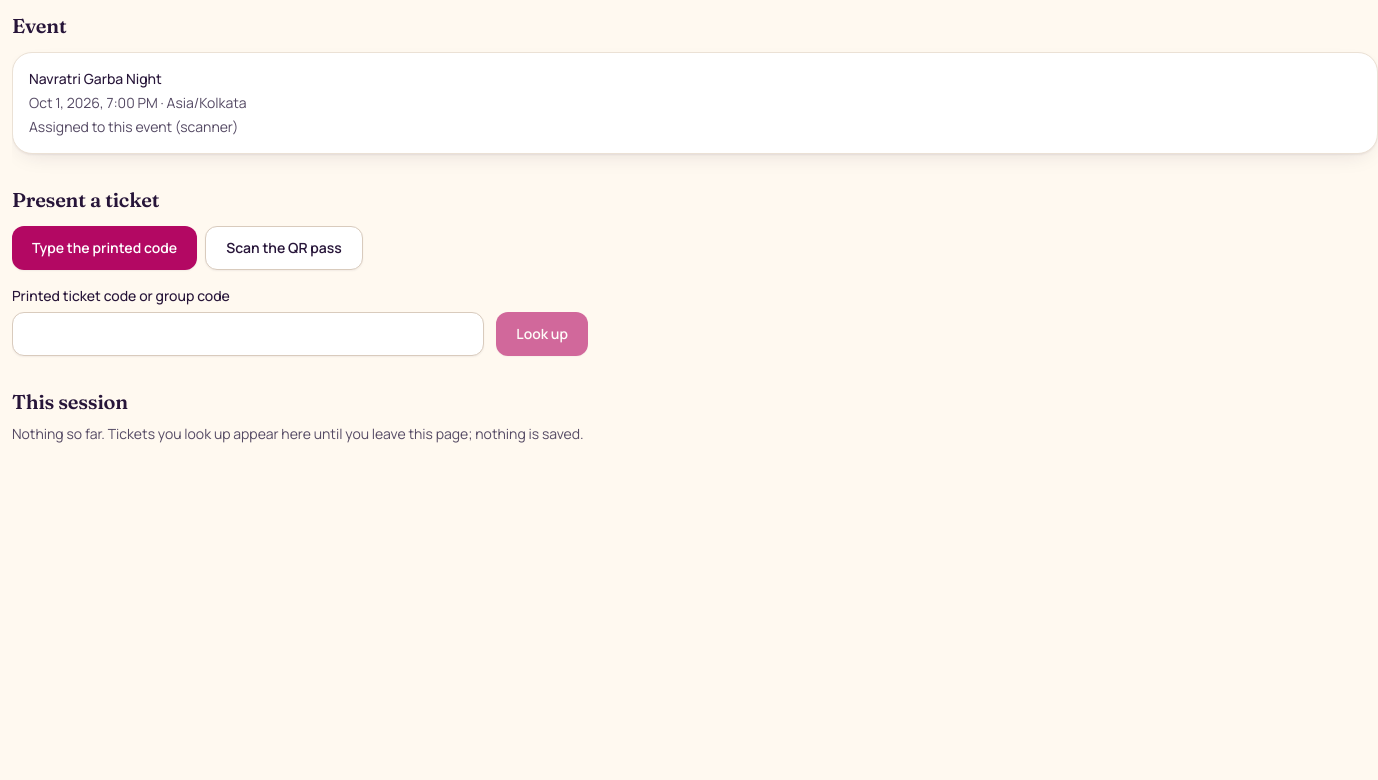
Test: DoorWorkspace: looking up, then admitting › looks a ticket up without admitting it, and names who it is
Step 1. Type "det-abc123xyz" into the field labelled "Printed ticket code or group code" → (248, 334), box [12,312,484,356]
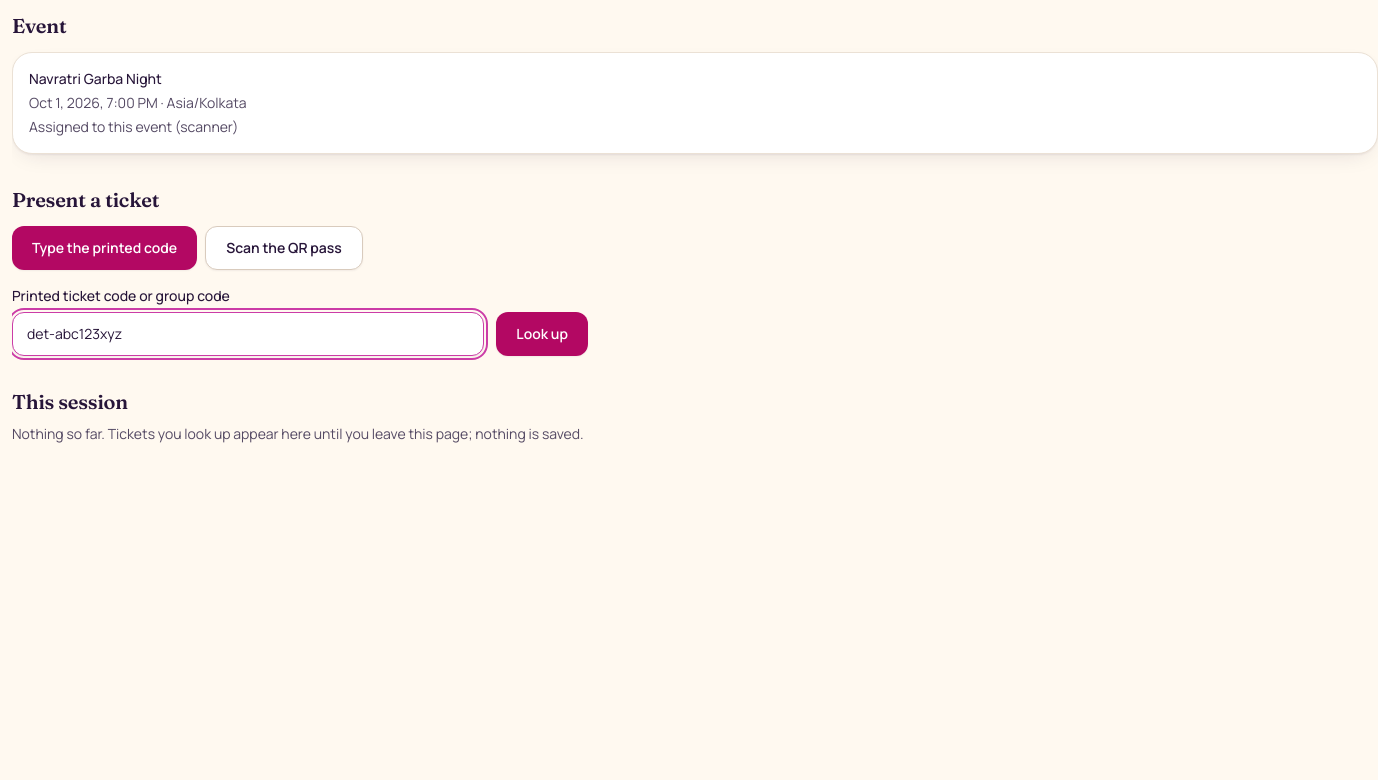
Step 2. Click the button "Look up" → (542, 334), box [496,312,588,356]
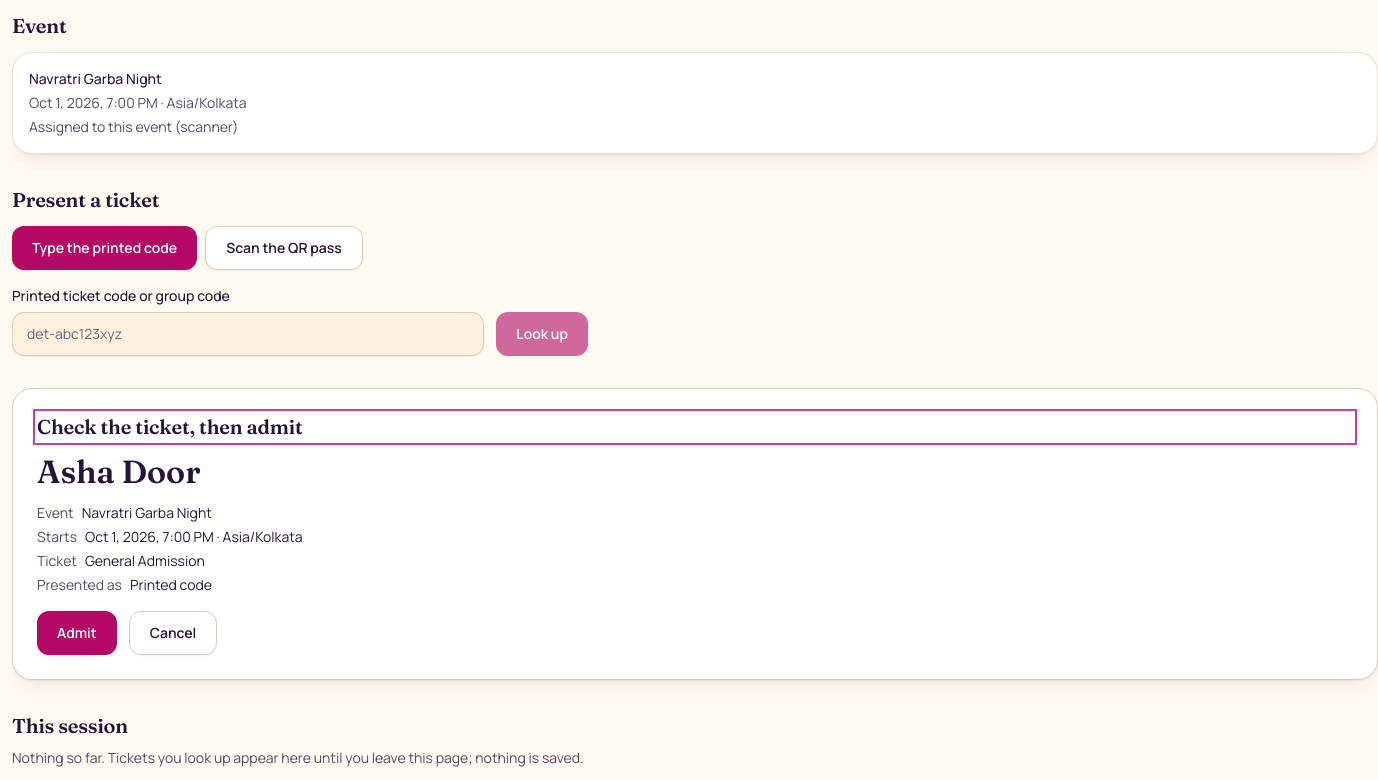
Expected: the text "Asha Door" is shown, [37,452,200,491]
